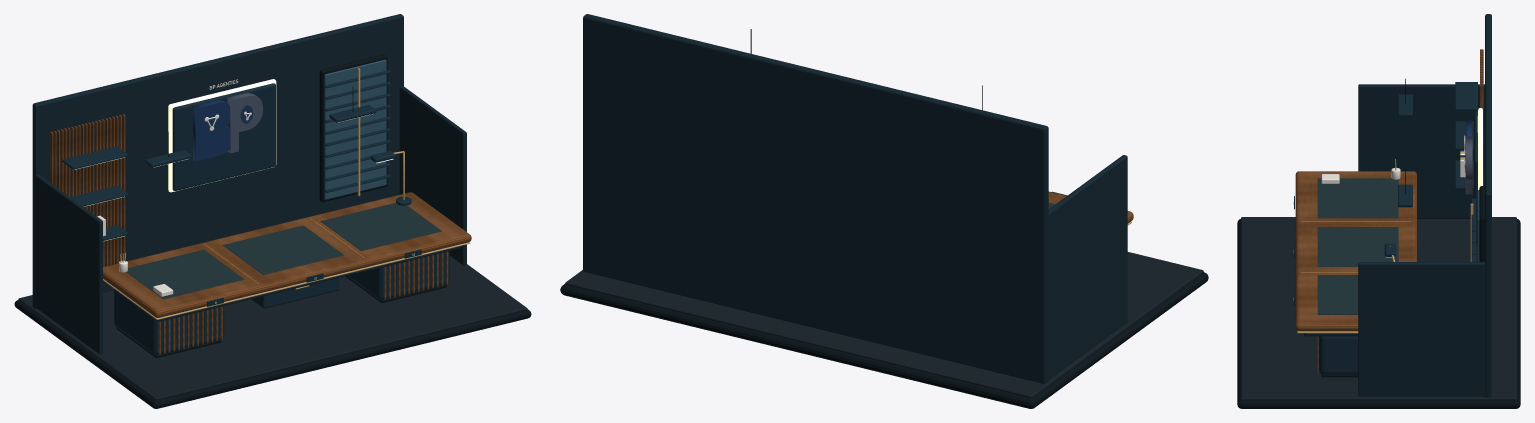
The model's file is studio-room.glb.
3 views of the same model, side by side, from view 1: azimuth 30°, elevation 25°; view 2: azimuth 150°, elevation 25°; view 3: azimuth 270°, elevation 25° (orthographic). The views are drawn at different scales.
Visible parts, largest first — view 1: Backdrop — blue mineral plaster, Slate floor, Walnut workbench, Left return, Right return, Blue dusk glass, Brand panel, Floating studio platform, Inset desk mat.001, Inset desk mat.002, Rounded storage pedestal, Inset desk mat (+11 smaller); view 2: Backdrop — blue mineral plaster, Left return, Slate floor, Floating studio platform; view 3: Slate floor, Right return, Left return, Walnut workbench, Floating studio platform, Inset desk mat, Inset desk mat.001, Backdrop — blue mineral plaster, Inset desk mat.002, Rounded storage pedestal.001, Thin floating shelf.002, BP original P (+7 smaller).
Part boxes in pixels (x1,y1,x2,y2): Backdrop — blue mineral plaster: (32, 14, 403, 308); Slate floor: (18, 256, 527, 400); Walnut workbench: (103, 192, 471, 317); Left return: (35, 175, 102, 354); Right return: (399, 86, 466, 265); Blue dusk glass: (324, 59, 386, 199); Brand panel: (172, 83, 275, 190); Floating studio platform: (14, 300, 531, 408); Inset desk mat.001: (222, 225, 343, 274); Inset desk mat.002: (320, 203, 441, 250); Rounded storage pedestal: (114, 289, 224, 355); Inset desk mat: (126, 249, 244, 299); Backdrop — blue mineral plaster: (583, 14, 1048, 383); Left return: (1048, 155, 1127, 379); Slate floor: (565, 252, 1203, 397); Floating studio platform: (560, 272, 1208, 408); Slate floor: (1241, 217, 1516, 400); Right return: (1358, 262, 1485, 396); Left return: (1358, 84, 1484, 218); Walnut workbench: (1295, 171, 1416, 331); Floating studio platform: (1237, 219, 1520, 408); Inset desk mat: (1317, 178, 1398, 218); Inset desk mat.001: (1317, 227, 1398, 266); Backdrop — blue mineral plaster: (1485, 14, 1491, 397); Inset desk mat.002: (1317, 275, 1358, 314); Rounded storage pedestal.001: (1318, 336, 1358, 375); Thin floating shelf.002: (1455, 82, 1477, 110); BP original P: (1465, 136, 1472, 194).
Size of the model in its own units: 11.6 by 6.26 by 7.5.
14 materials, 1 textured.
